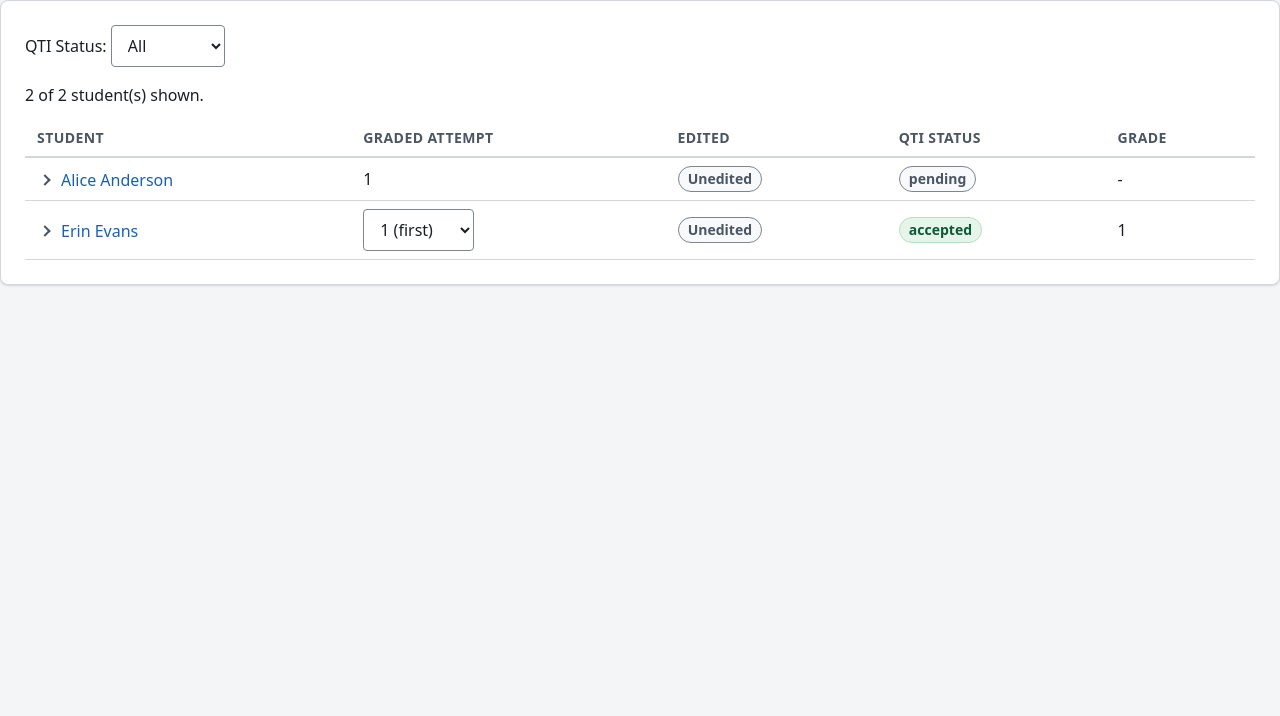
it: Queue: multiple attempts per student (Planned rework item 6) › switching the attempt dropdown updates the row summary and the expanded Detail view
Click the button "Erin Evans". click: (88, 231)
box: [37, 219, 138, 243]
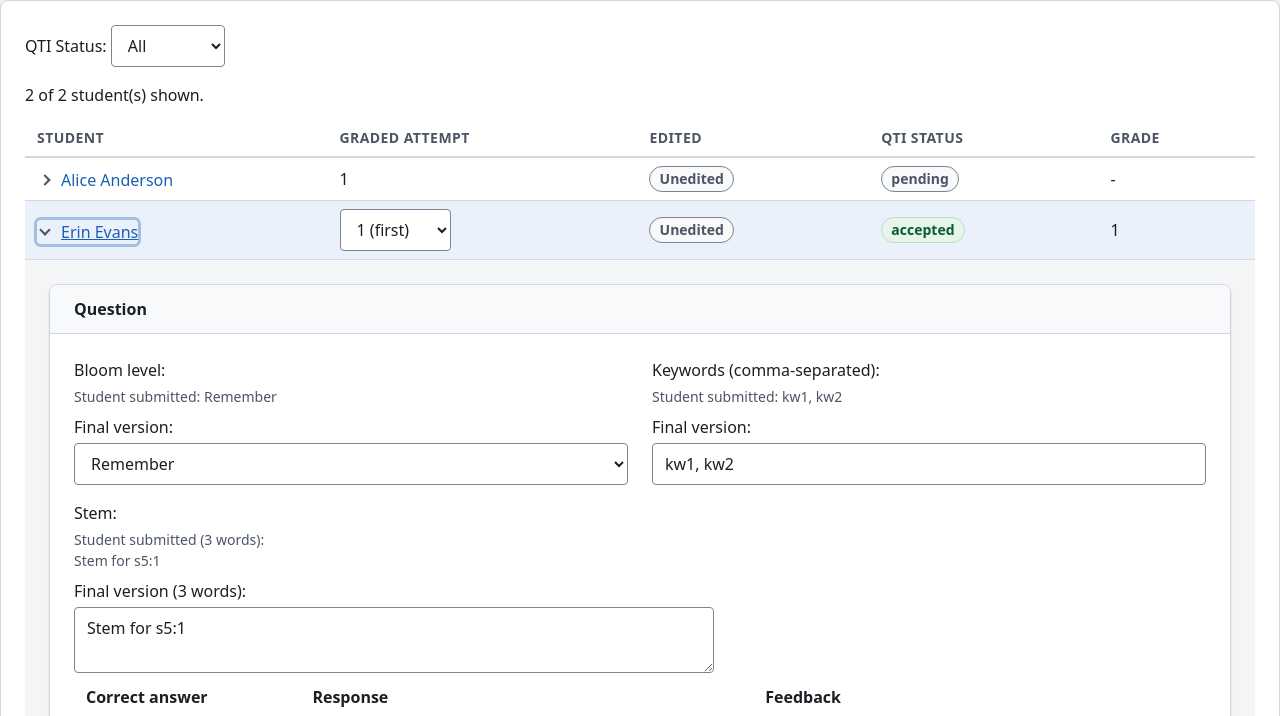
Check: the text box labelled "Stem:" holds "Stem for s5:1", box [74, 607, 714, 673]
Select "3 (latest)" in the dropdown named "attempt for erin evans". click: (395, 230)
box: [340, 209, 450, 251]
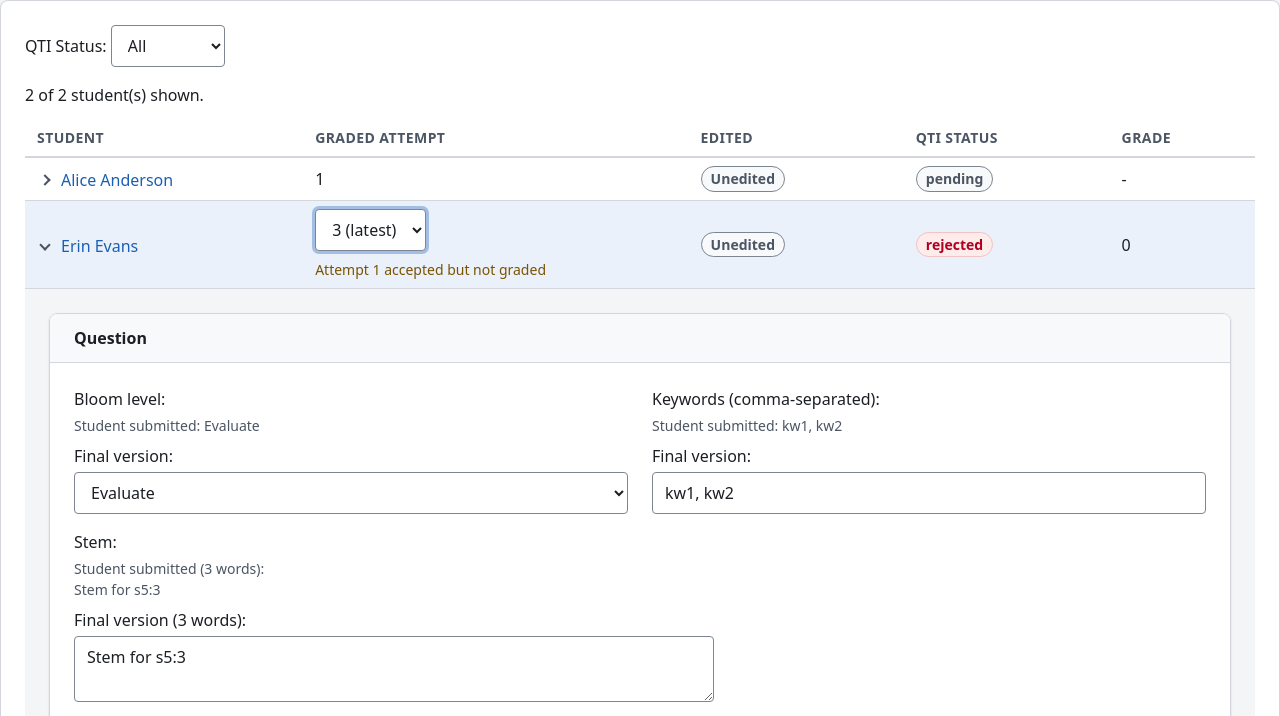
Check: the text box labelled "Stem:" holds "Stem for s5:3", box [74, 636, 714, 702]
